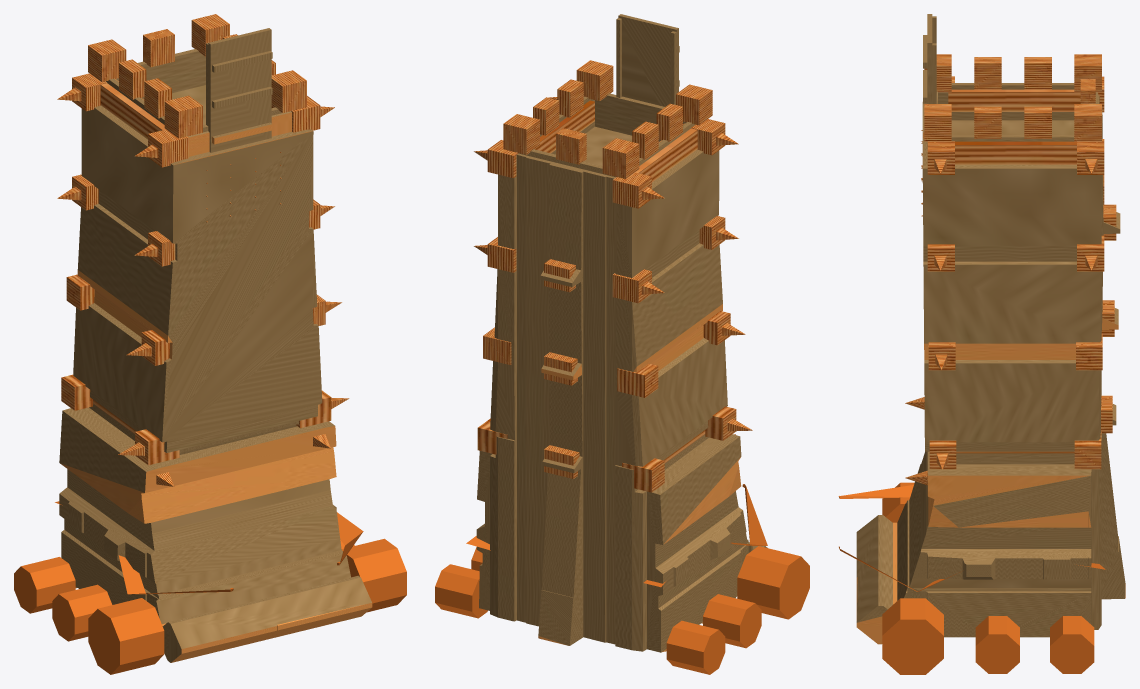
The model's file is ae_siege_tower_open_large_bronze_lod0.glb.
3 views of the same model, side by side, from view 1: azimuth 30°, elevation 25°; view 2: azimuth 150°, elevation 25°; view 3: azimuth 270°, elevation 25° (orthographic). The views are drawn at different scales.
Visible parts, largest first — view 1: siege_tower_open_large, drawbridge; view 2: siege_tower_open_large, drawbridge; view 3: siege_tower_open_large, drawbridge.
Boxes of the visible parts, bbox=[...] form: siege_tower_open_large: bbox=[14, 14, 406, 674]; drawbridge: bbox=[206, 28, 272, 152]; siege_tower_open_large: bbox=[435, 60, 809, 674]; drawbridge: bbox=[616, 14, 679, 106]; siege_tower_open_large: bbox=[838, 54, 1125, 674]; drawbridge: bbox=[923, 14, 936, 148].
Size of the model in its own units: 67.27 by 133 by 59.65.
4 materials, 3 textured.
